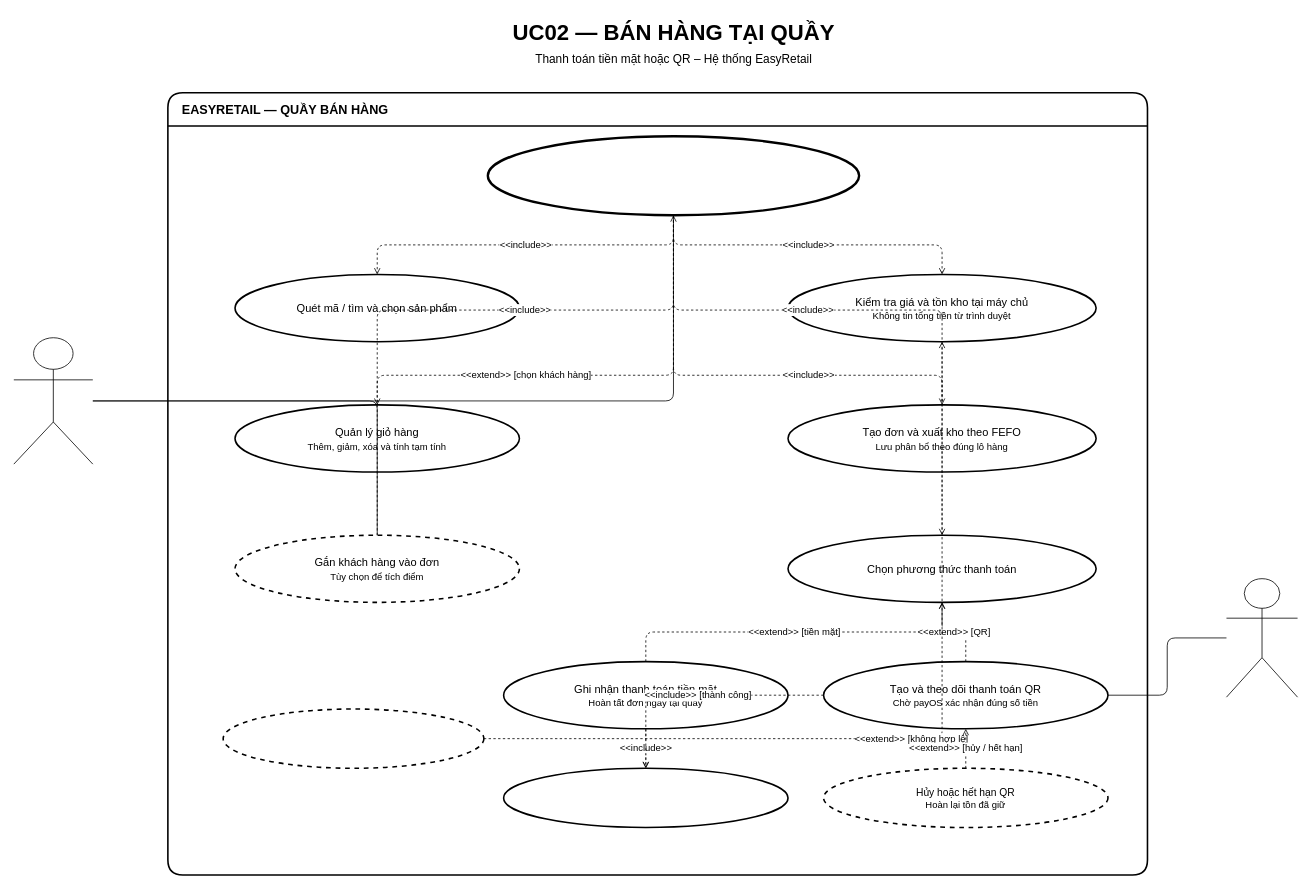
The diagram is 1311 pixels wide and 889 high, and some of its shapes have lost their labels. The centre of each missing label's shape, as x and y in pixels:
"Dịch vụ payOS" belongs at point (1262, 637).
"Hiển thị / in biên nhận" belongs at point (645, 797).
"Nhân viên bán hàng" belongs at point (53, 400).
"Thông báo sản phẩm không đủ tồn / đã ngừng bán" belongs at point (353, 738).
"UC02 — Bán hàng tại quầy tiền mặt hoặc QR" belongs at point (673, 175).
